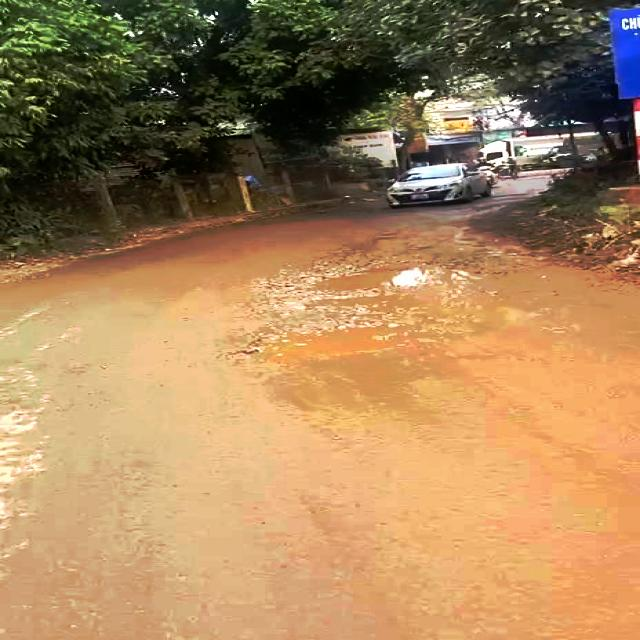pothole: (268, 258, 459, 316), (229, 314, 429, 367)
